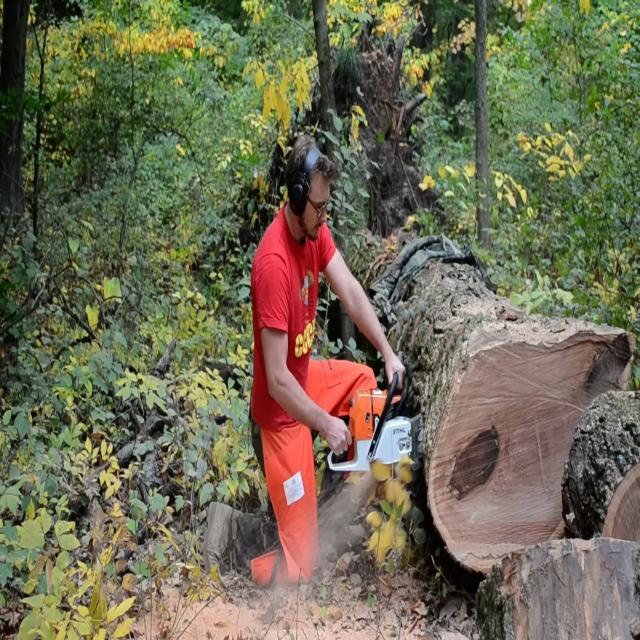Chainsaw: (312, 367, 446, 504)
